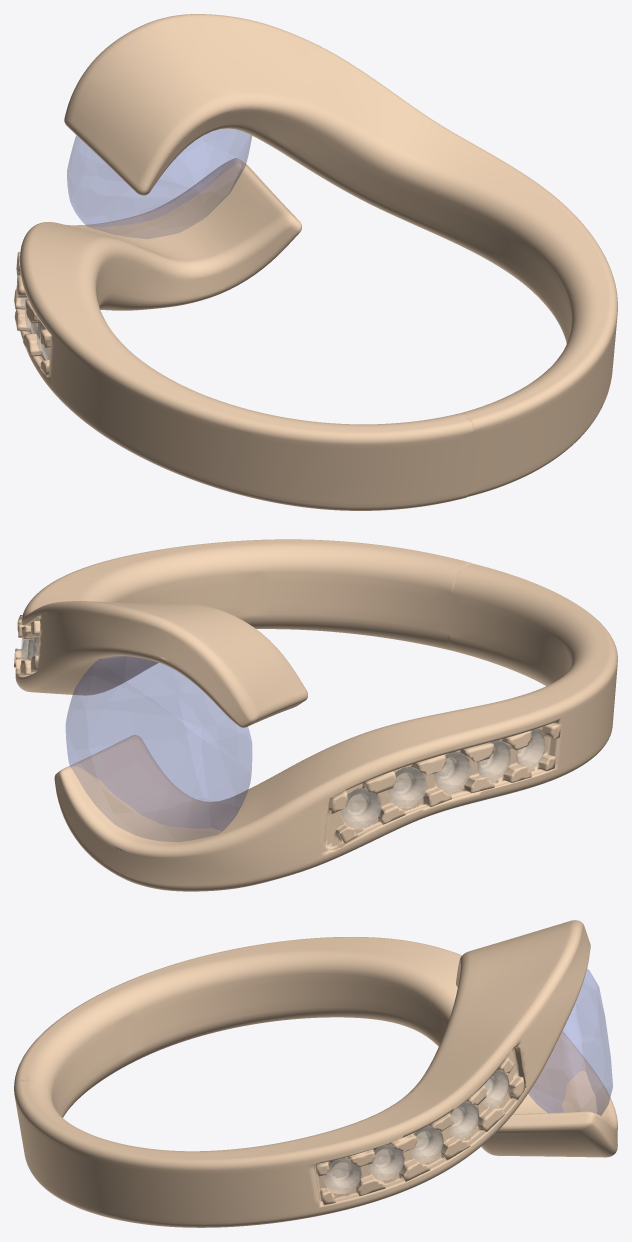
File: hmt-ring.glb
3 views of the same model, one above another, from view 1: azimuth 30°, elevation 25°; view 2: azimuth 150°, elevation 25°; view 3: azimuth 270°, elevation 25° (orthographic). The views are drawn at different scales.
Parts seen in each view (by area): view 1: ring.002, Ring with gems.006; view 2: ring.002, Ring with gems.006, Ring with gems.005; view 3: ring.002, Ring with gems.006, Ring with gems.005.
Boxes of the visible parts, bbox=[...] form: ring.002: bbox=[14, 14, 617, 510]; Ring with gems.006: bbox=[67, 128, 251, 238]; ring.002: bbox=[14, 539, 617, 891]; Ring with gems.006: bbox=[66, 656, 251, 841]; Ring with gems.005: bbox=[21, 635, 544, 828]; ring.002: bbox=[14, 920, 617, 1227]; Ring with gems.006: bbox=[528, 969, 612, 1115]; Ring with gems.005: bbox=[324, 1070, 508, 1192].
Size of the model in its own units: 0.0196 by 0.00923 by 0.0222.
